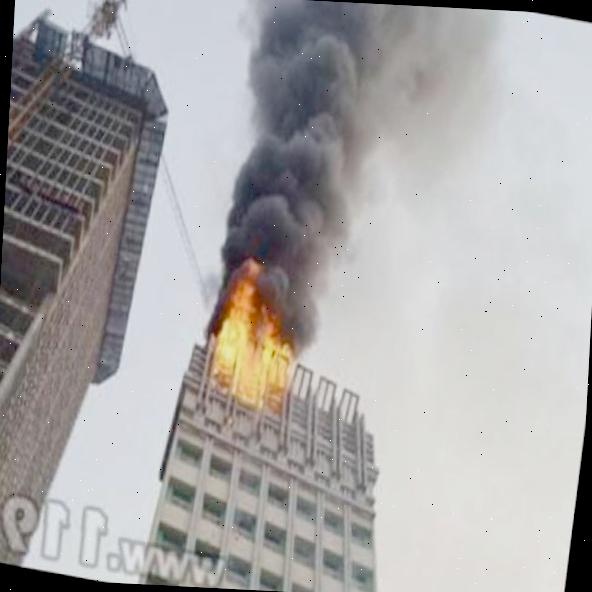fire: (216, 256, 262, 373), (246, 327, 293, 379), (236, 372, 262, 403)
smoke: (219, 0, 535, 296), (259, 253, 336, 332)
